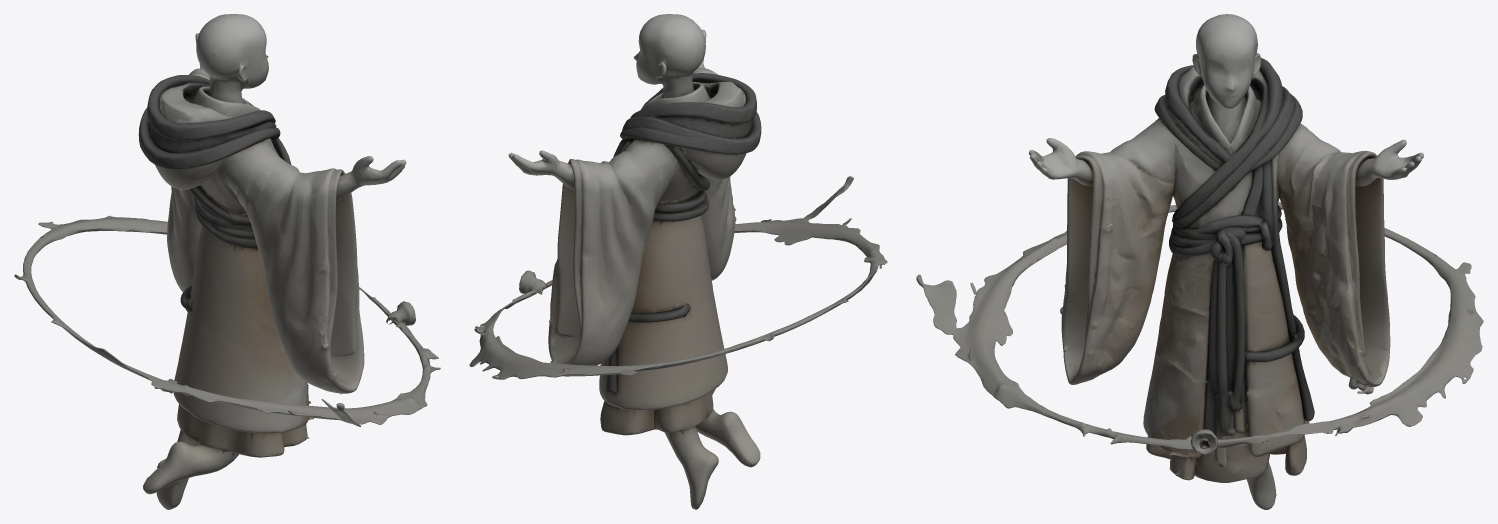
The model's file is orrin.glb.
3 renders of one model, left to right at view 1: azimuth 30°, elevation 25°; view 2: azimuth 150°, elevation 25°; view 3: azimuth 270°, elevation 25°, orthographic. The views are drawn at different scales.
Visible parts, largest first — view 1: tripo_node_7607bfb9-5382-4539-8a78-7b7f152a8093; view 2: tripo_node_7607bfb9-5382-4539-8a78-7b7f152a8093; view 3: tripo_node_7607bfb9-5382-4539-8a78-7b7f152a8093.
Boxes of the visible parts, x1=… form: tripo_node_7607bfb9-5382-4539-8a78-7b7f152a8093: x1=14, y1=14, x2=440, y2=509; tripo_node_7607bfb9-5382-4539-8a78-7b7f152a8093: x1=469, y1=14, x2=887, y2=509; tripo_node_7607bfb9-5382-4539-8a78-7b7f152a8093: x1=916, y1=14, x2=1483, y2=509.
Size of the model in its own units: 0.7427 by 0.9974 by 1.
Materials: 1 (1 with a texture image).
